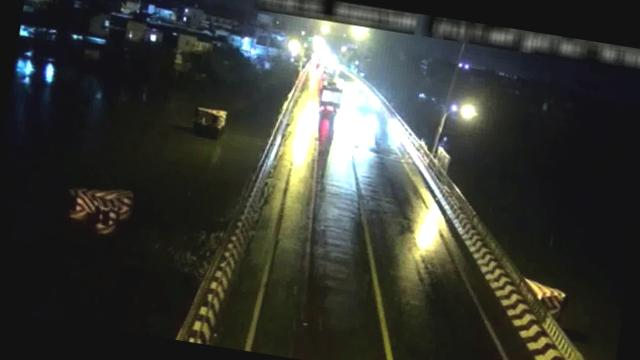Truck: (314, 76, 345, 115)
